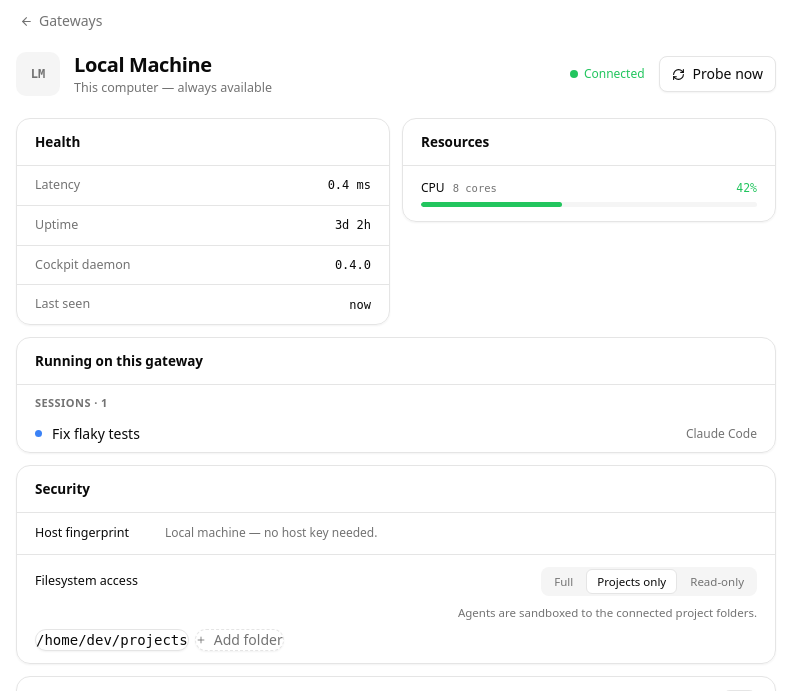
it: switching filesystem access persists the mode and re-renders from the IPC result
Expected: the button "/home/dev/projects" is shown, [35,629,189,651]
Click the button "Read-only": point(717, 581) [679,569,755,594]
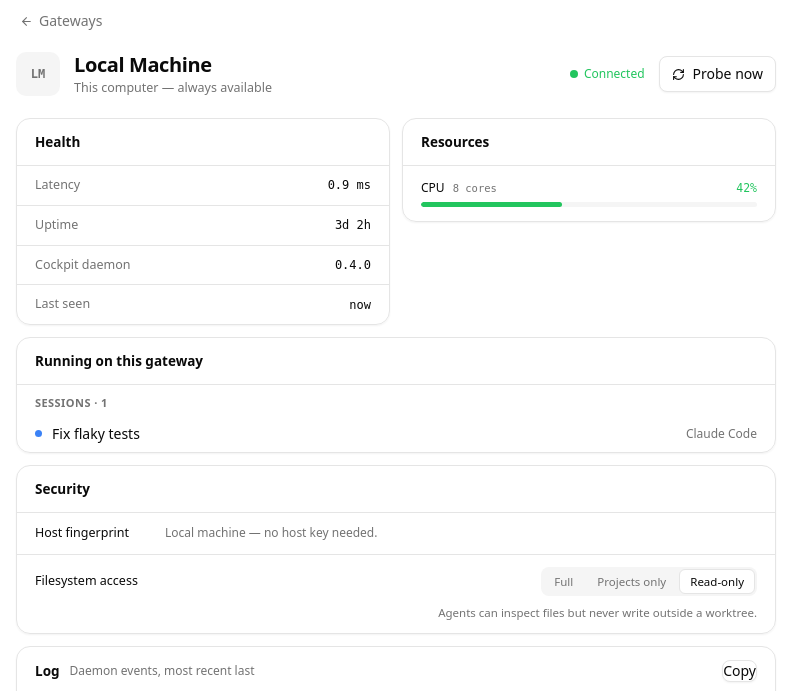
Now the text "0.9 ms" is shown, box [328,177,371,193]
Now the text "Agents can inspect files but never write outside a worktree." is shown, box [438,605,757,620]
Now the button "/home/dev/projects" is gone
